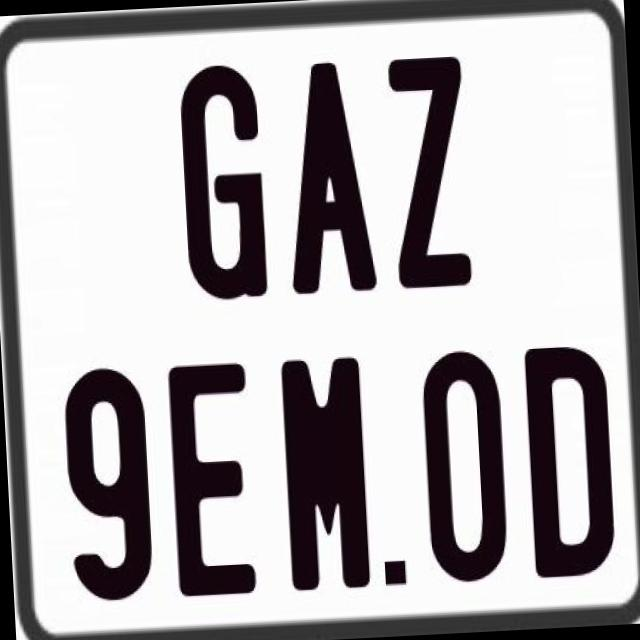0: (418, 348, 508, 586)
9: (62, 366, 158, 606)
A: (281, 58, 379, 301)
D: (522, 345, 614, 581)
E: (166, 359, 258, 600)
G: (177, 61, 272, 304)
M: (278, 354, 374, 596)
Z: (386, 52, 471, 290)
